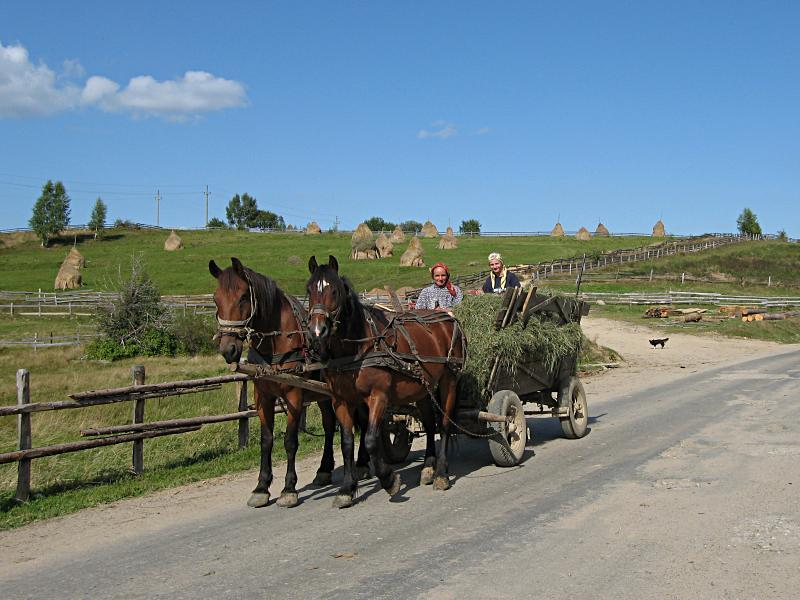horse: (207, 254, 378, 511), (305, 252, 465, 506)
